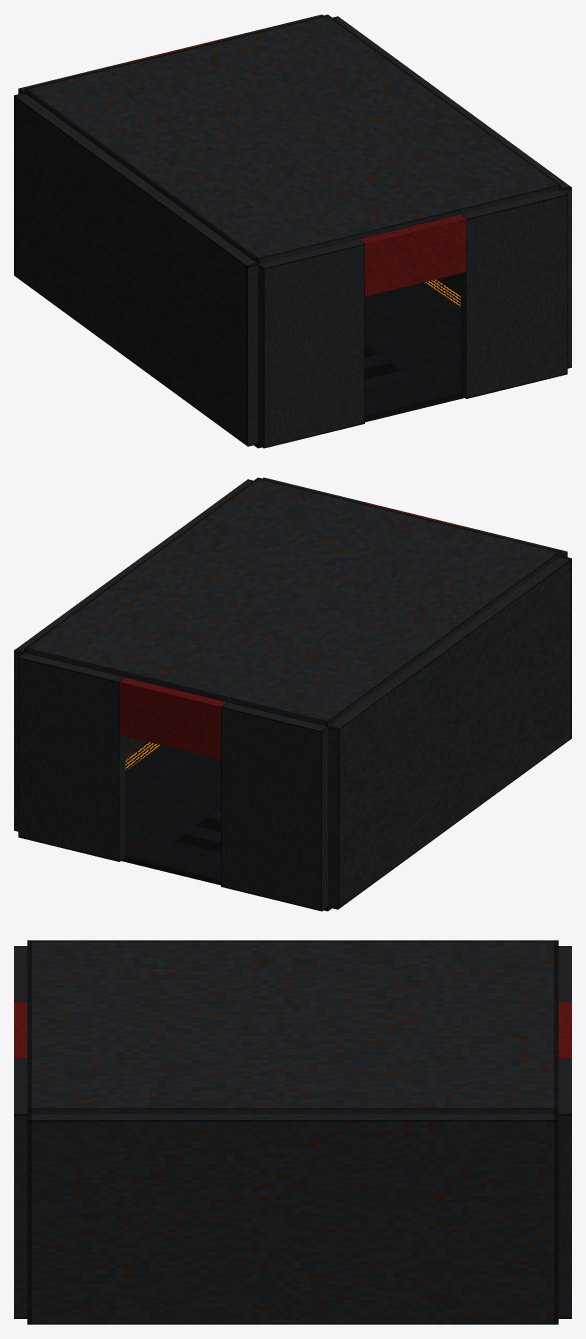
Rendered from station_room.glb.
3 renders of one model, top to bottom at view 1: azimuth 30°, elevation 25°; view 2: azimuth 150°, elevation 25°; view 3: azimuth 270°, elevation 25°, orthographic. The views are drawn at different scales.
Visible parts, largest first — view 1: station_room; view 2: station_room; view 3: station_room.
Part boxes in pixels (<box>): station_room: <box>14,14,571,448</box>; station_room: <box>14,477,571,911</box>; station_room: <box>14,940,571,1324</box>.
Size of the model in its own units: 6.4 by 3.56 by 8.4.
8 materials, 8 textured.
